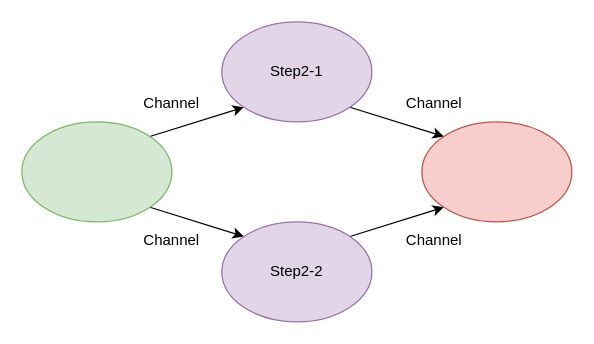
Image size: 594x344. Some labels were removed from this diagram. The shapes that lost their labels are listed below. From the top down, each one's centre as x and y in pixels, then its label:
At pixel 96 171: "Step1".
At pixel 496 171: "Step3".
